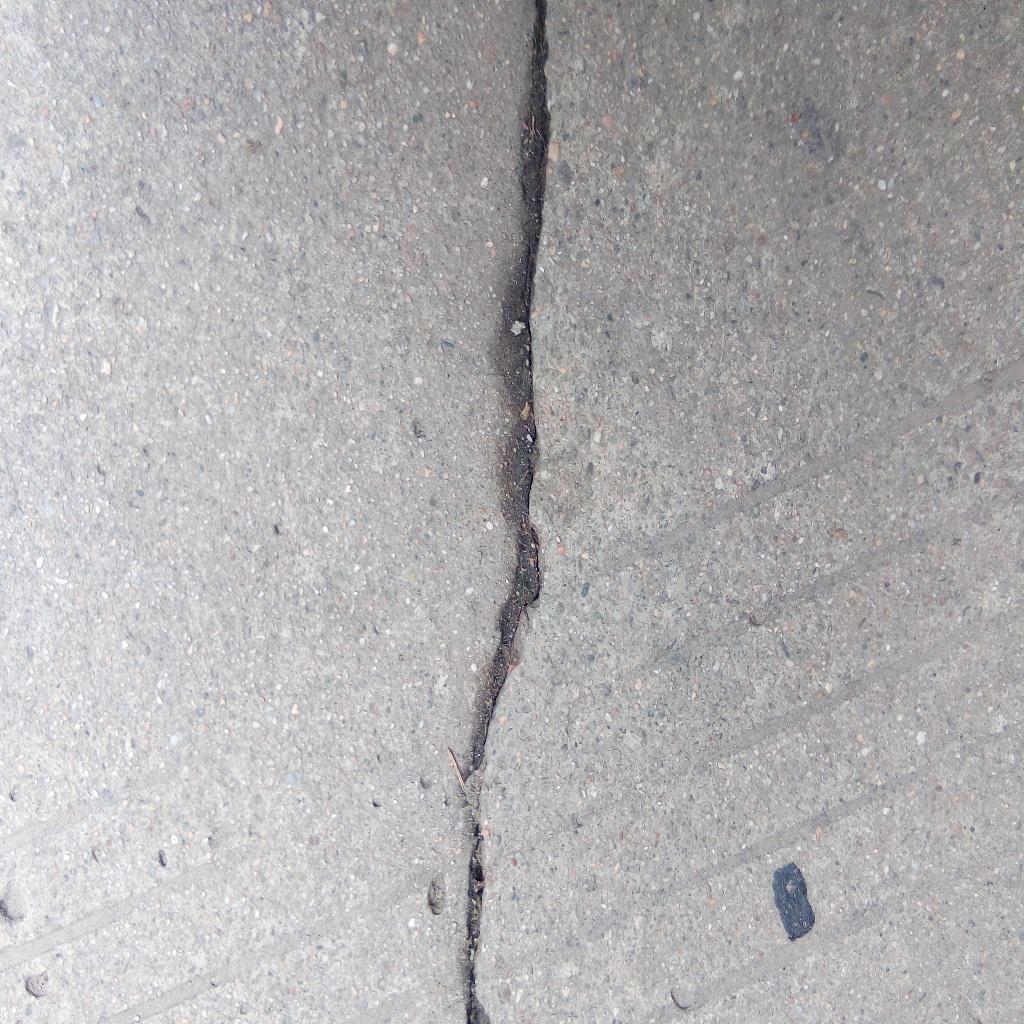Crack: (455, 1, 552, 1024)
